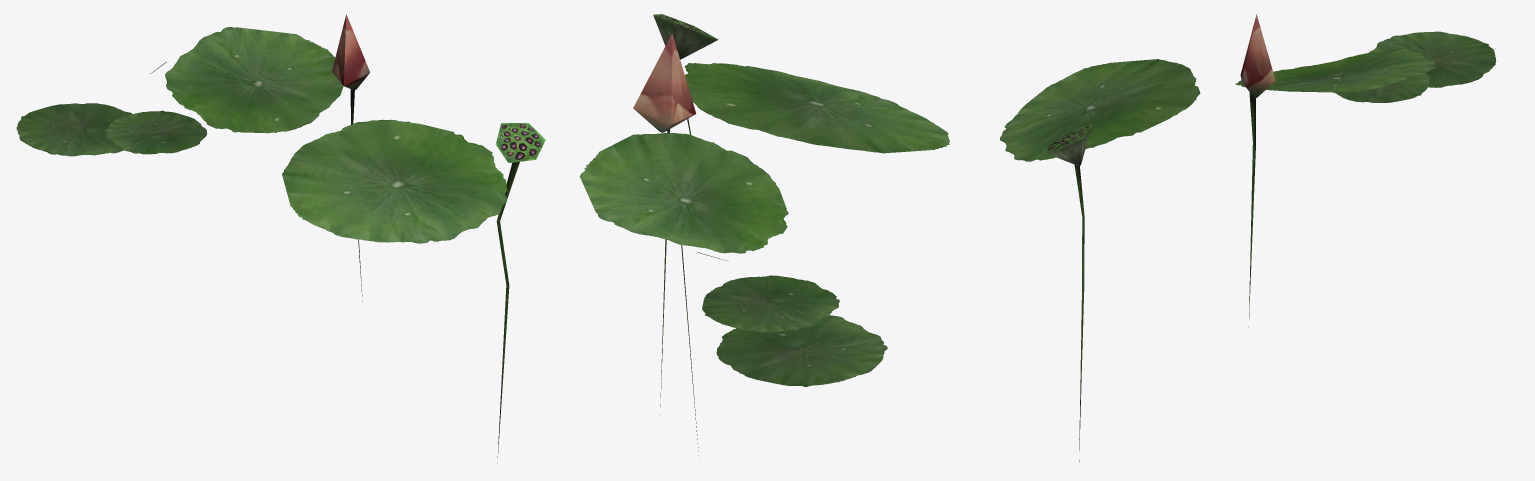
Rendered from yw_yanziwu_hehua02.FBX.
3 views of the same model, side by side, from view 1: azimuth 30°, elevation 25°; view 2: azimuth 150°, elevation 25°; view 3: azimuth 270°, elevation 25° (orthographic). The views are drawn at different scales.
Visible parts, largest first — view 1: yw_yanziwu_hehua02; view 2: yw_yanziwu_hehua02; view 3: yw_yanziwu_hehua02.
Part boxes in pixels (x1,y1,x2,y2): yw_yanziwu_hehua02: (16,14,545,462); yw_yanziwu_hehua02: (579,14,949,455); yw_yanziwu_hehua02: (1000,14,1496,462).
Bounding box in the file's own units: 199 × 215 × 245.
